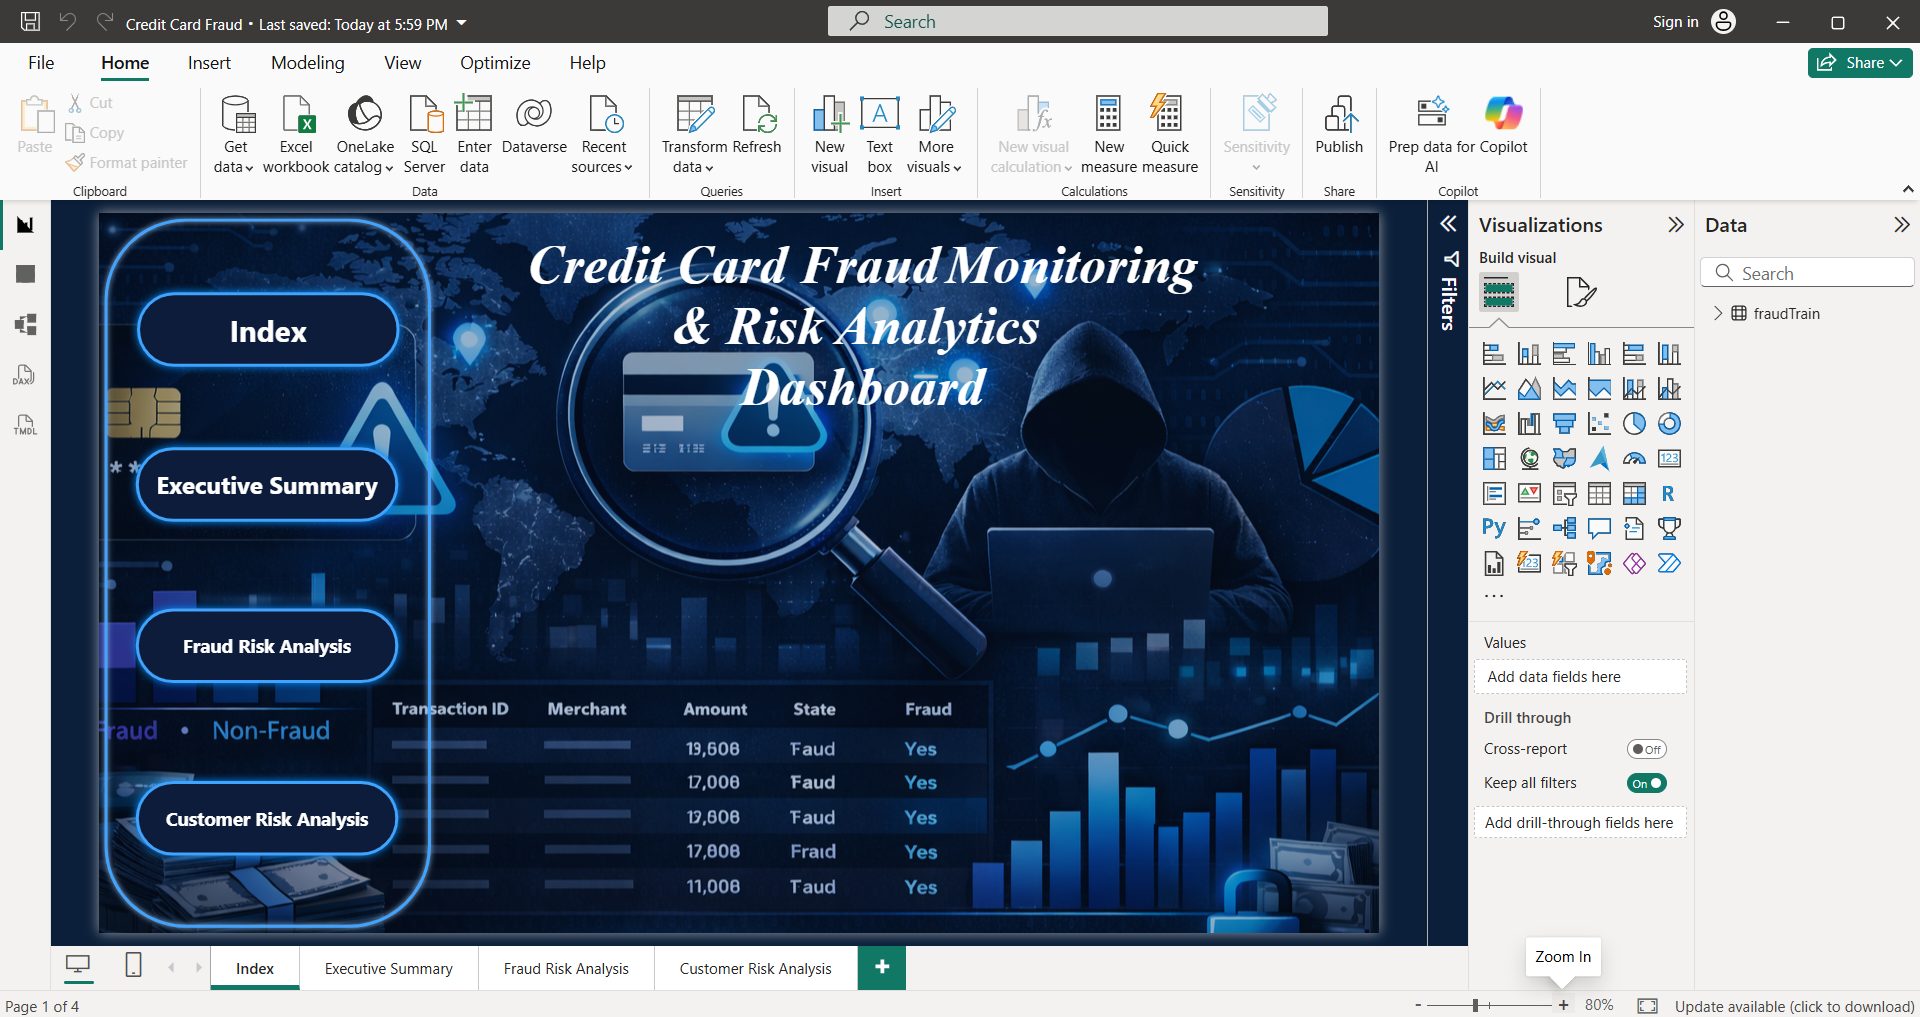

Layout of this report page (visuals, bound fields, positions):
{"tool":"powerbi","page":{"name":"Index","canvas":[1280,720],"ordinal":0},"visuals":[{"type":"shape","box":[0,0,337.6,720.4],"z":0},{"type":"image","box":[455.6,204.5,647.7,378.7],"z":1000},{"type":"textbox","box":[437.7,42.5,682,242.9],"z":2000},{"type":"shape","box":[30.2,42.5,278.6,90.6],"z":3000},{"type":"image","box":[89.2,509.1,260.7,211.3],"z":4000},{"type":"shape","box":[31.6,175.6,278.6,90.6],"z":5000},{"type":"shape","box":[30.2,303.3,278.6,90.6],"z":6000},{"type":"shape","box":[28.8,429.5,278.6,90.6],"z":7000}]}

Visuals, with their boxes on the page's 1280x720 design canvas (x1, y1, x2, y2). These are canvas units, not pixel positions in the 1920x1017 screenshot, which may show the page scaled, cropped or inside an application window:
shape: crop(0, 0, 338, 720)
image: crop(456, 204, 1103, 583)
textbox: crop(438, 42, 1120, 285)
shape: crop(30, 42, 309, 133)
image: crop(89, 509, 350, 720)
shape: crop(32, 176, 310, 266)
shape: crop(30, 303, 309, 394)
shape: crop(29, 430, 307, 520)
